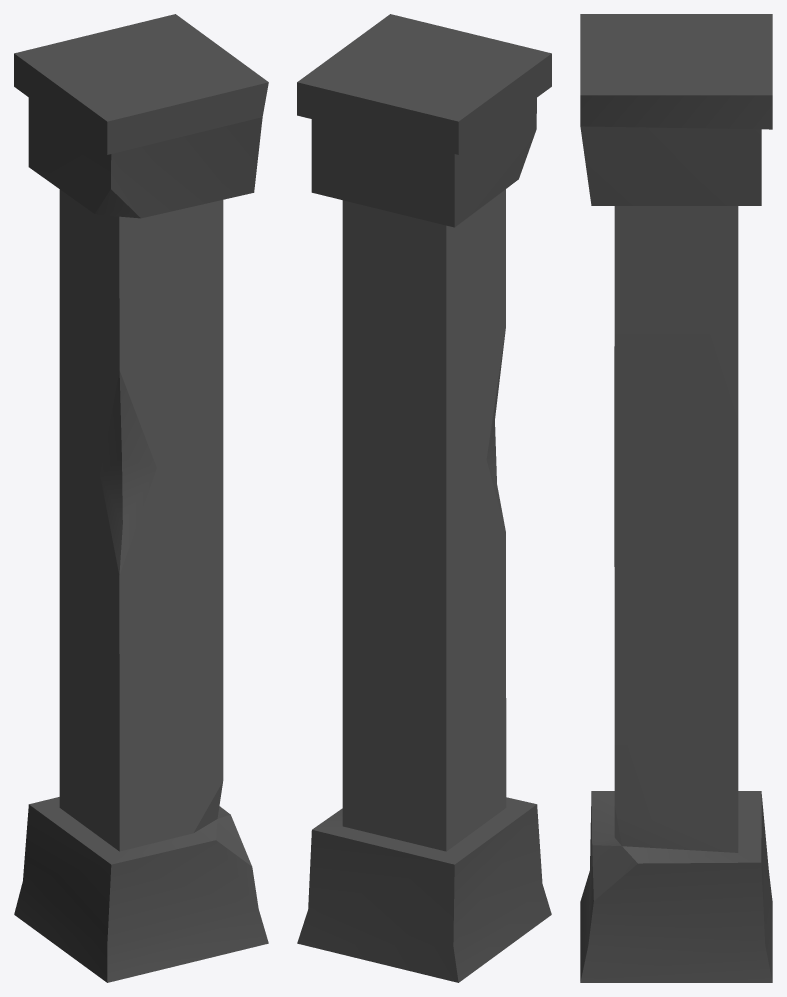
File: Column_01.fbx
The picture shows the model from 3 angles, left to right: view 1: azimuth 30°, elevation 25°; view 2: azimuth 150°, elevation 25°; view 3: azimuth 270°, elevation 25°; orthographic projection. The views are drawn at different scales.
Parts seen in each view (by area): view 1: Column_01_LOD0; view 2: Column_01_LOD0; view 3: Column_01_LOD0.
Part boxes in pixels (x1,y1,x2,y2): Column_01_LOD0: [14, 14, 268, 982]; Column_01_LOD0: [297, 14, 551, 982]; Column_01_LOD0: [580, 14, 772, 982].
Size of what is drawn, in the model's own units: 0.5634 by 2.87 by 0.5634.
